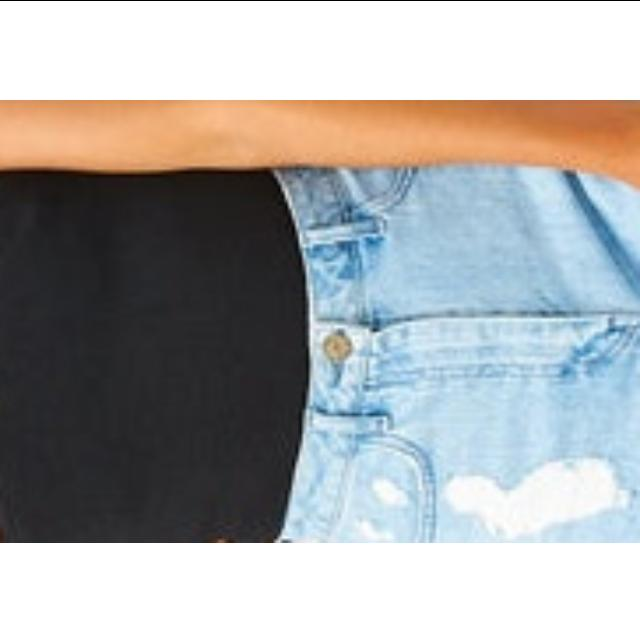denim: (278, 155, 640, 541)
